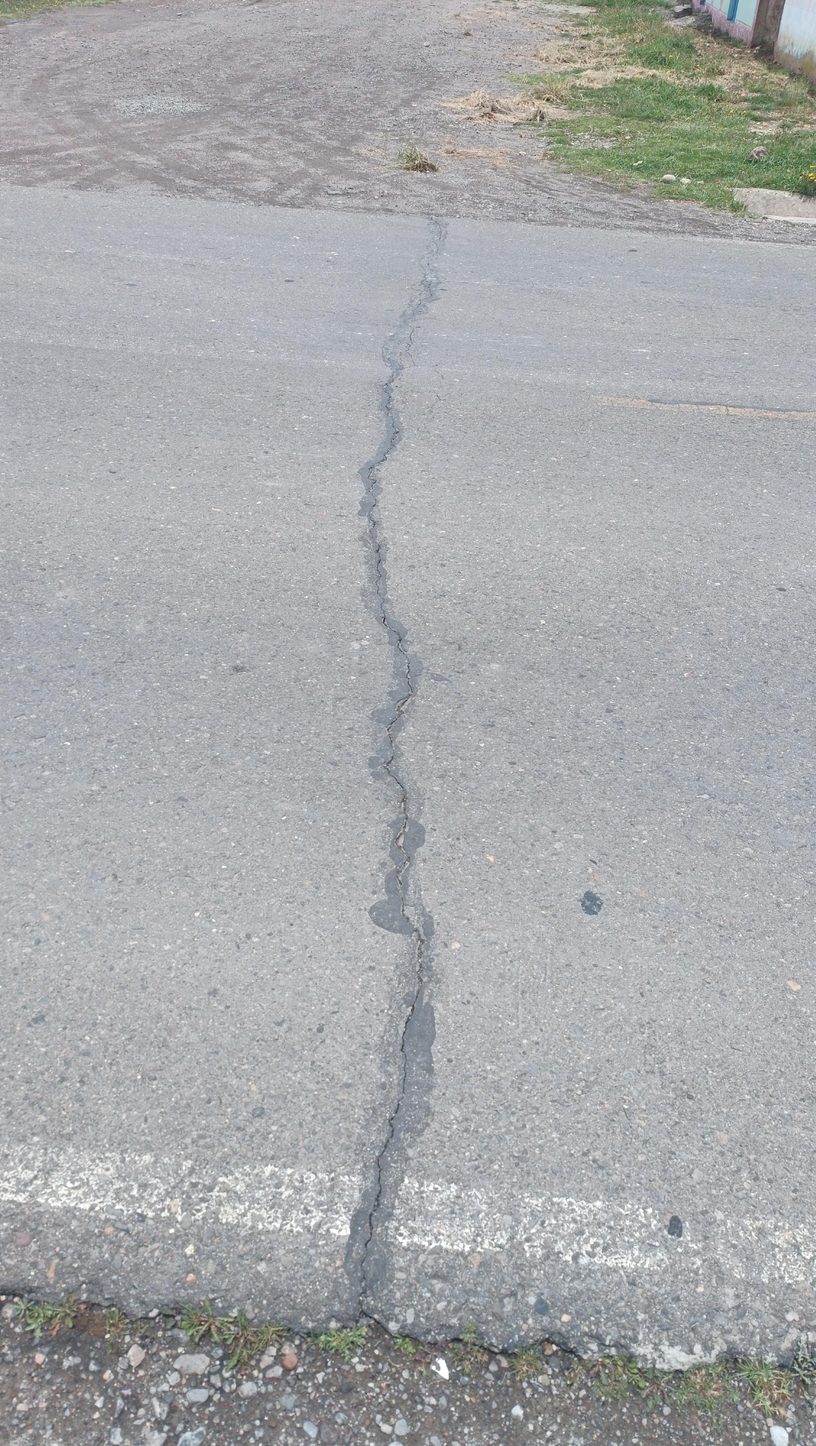GRIETA: (357, 928, 427, 1319), (375, 544, 414, 920), (366, 370, 400, 508)
